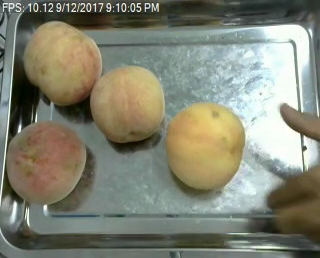Peach: (165, 102, 245, 189), (5, 120, 86, 205), (23, 20, 103, 105), (89, 64, 165, 143)
